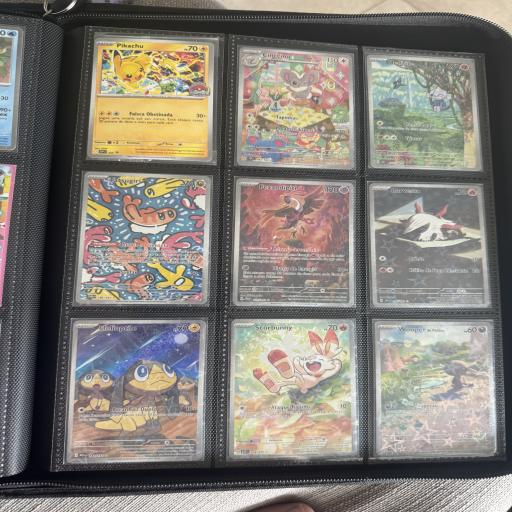card: (66, 316, 206, 467), (228, 319, 358, 459), (75, 172, 210, 304), (374, 319, 497, 456), (232, 178, 358, 309), (86, 37, 216, 161), (369, 180, 490, 311), (237, 47, 357, 170), (366, 51, 481, 175)
